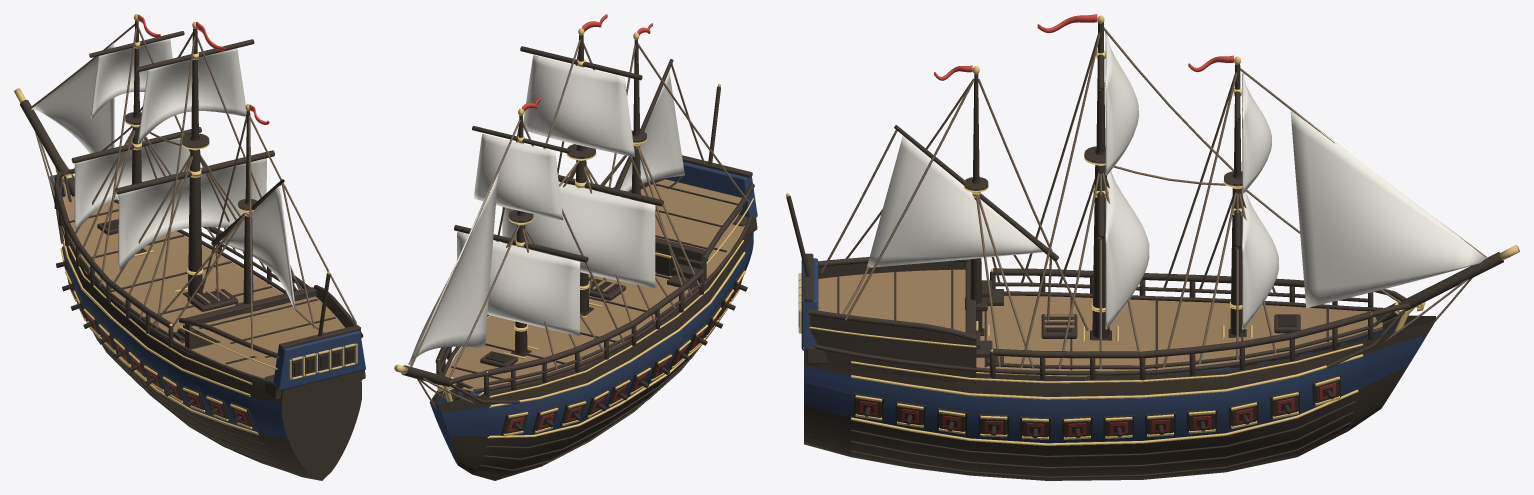
The model's file is frigate.glb.
3 renders of one model, left to right at view 1: azimuth 30°, elevation 25°; view 2: azimuth 150°, elevation 25°; view 3: azimuth 270°, elevation 25°, orthographic. The views are drawn at different scales.
Visible parts, largest first — view 1: HullMesh, Deck, Sail_Main_Course, Sail_Main_Topsail, Sterncastle, Railings, Sail_Fore_Course, Sail_Bowsprit, Sail_Mizzen_Lateen, Rigging_Main, Gunports, Rigging_Mizzen (+12 smaller); view 2: HullMesh, Deck, Sail_Main_Course, Sail_Main_Topsail, Sail_Fore_Course, Sail_Bowsprit, Sail_Fore_Topsail, Railings, Gunports, Sail_Mizzen_Lateen, Sterncastle, Rigging_Mizzen (+12 smaller); view 3: HullMesh, Deck, Sail_Bowsprit, Sail_Mizzen_Lateen, Railings, Gunports, Sail_Main_Course, Rigging_Main, Rigging_Mizzen, Rigging_Fore, Sail_Fore_Course, Sail_Main_Topsail (+7 smaller).
Part boxes in pixels (left/top/right/bottom): HullMesh: left=49, top=167, right=361, bottom=480; Deck: left=62, top=195, right=351, bottom=384; Sail_Main_Course: left=118, top=158, right=266, bottom=270; Sail_Main_Topsail: left=138, top=48, right=246, bottom=143; Sterncastle: left=264, top=271, right=365, bottom=401; Railings: left=54, top=176, right=363, bottom=369; Sail_Fore_Course: left=74, top=137, right=190, bottom=231; Sail_Bowsprit: left=31, top=43, right=114, bottom=202; Sail_Mizzen_Lateen: left=219, top=186, right=295, bottom=310; Rigging_Main: left=110, top=32, right=300, bottom=329; Gunports: left=60, top=246, right=254, bottom=429; Rigging_Mizzen: left=151, top=114, right=356, bottom=349; HullMesh: left=429, top=232, right=753, bottom=480; Deck: left=442, top=178, right=752, bottom=393; Sail_Main_Course: left=502, top=182, right=655, bottom=288; Sail_Main_Topsail: left=523, top=55, right=635, bottom=157; Sail_Fore_Course: left=457, top=232, right=580, bottom=336; Sail_Bowsprit: left=408, top=173, right=498, bottom=365; Sail_Fore_Topsail: left=473, top=134, right=563, bottom=220; Railings: left=435, top=183, right=754, bottom=403; Gunports: left=446, top=269, right=745, bottom=436; Sail_Mizzen_Lateen: left=614, top=71, right=684, bottom=197; Sterncastle: left=664, top=83, right=757, bottom=236; Rigging_Mizzen: left=588, top=43, right=748, bottom=298; HullMesh: left=804, top=289, right=1435, bottom=480; Deck: left=810, top=260, right=1383, bottom=384; Sail_Bowsprit: left=1290, top=110, right=1486, bottom=307; Sail_Mizzen_Lateen: left=867, top=135, right=1042, bottom=267; Railings: left=809, top=257, right=1407, bottom=380; Gunports: left=854, top=344, right=1340, bottom=439; Sail_Main_Course: left=1105, top=171, right=1149, bottom=329; Rigging_Main: left=1020, top=27, right=1233, bottom=368; Rigging_Mizzen: left=821, top=78, right=1088, bottom=368; Rigging_Fore: left=1163, top=68, right=1487, bottom=367; Sail_Fore_Course: left=1242, top=191, right=1278, bottom=329; Sail_Main_Topsail: left=1105, top=32, right=1138, bottom=175.
Bounding box in the file's own units: 1.79 × 4.33 × 6.18.
